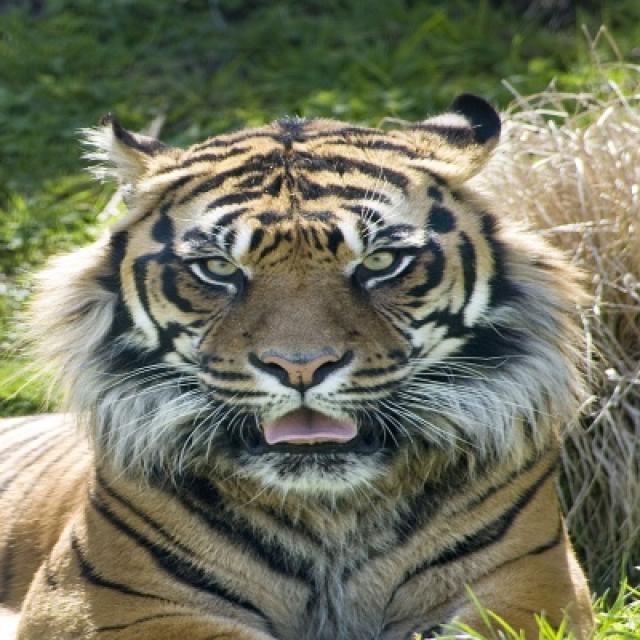Tiger: (0, 103, 593, 628)
